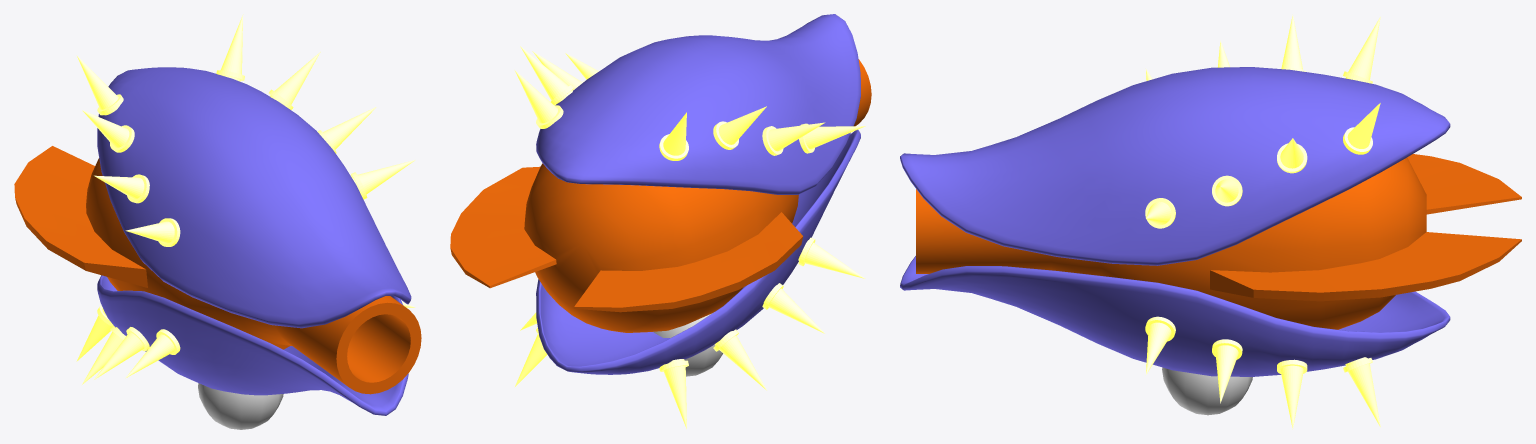
File: UPGRADE_ tur rotate base.fbx
The picture shows the model from 3 angles, left to right: view 1: azimuth 30°, elevation 25°; view 2: azimuth 150°, elevation 25°; view 3: azimuth 270°, elevation 25°; orthographic projection. The views are drawn at different scales.
Parts seen in each view (by area): view 1: Shell, Cannon, spikes, Base rotate; view 2: Shell, Cannon, spikes, Base rotate; view 3: Shell, Cannon, spikes, Base rotate.
Part boxes in pixels (left/top/right/bottom): Shell: left=97, top=67, right=411, bottom=415; Cannon: left=14, top=146, right=421, bottom=394; spikes: left=76, top=14, right=415, bottom=384; Base rotate: left=198, top=383, right=283, bottom=429; Shell: left=536, top=14, right=860, bottom=374; Cannon: left=450, top=59, right=871, bottom=332; spikes: left=514, top=46, right=865, bottom=428; Base rotate: left=653, top=313, right=722, bottom=376; Shell: left=900, top=67, right=1450, bottom=376; Cannon: left=916, top=154, right=1521, bottom=329; spikes: left=1145, top=14, right=1380, bottom=429; Base rotate: left=1162, top=367, right=1252, bottom=415.
Size of the model in its own units: 2.33 by 2.53 by 4.06.
